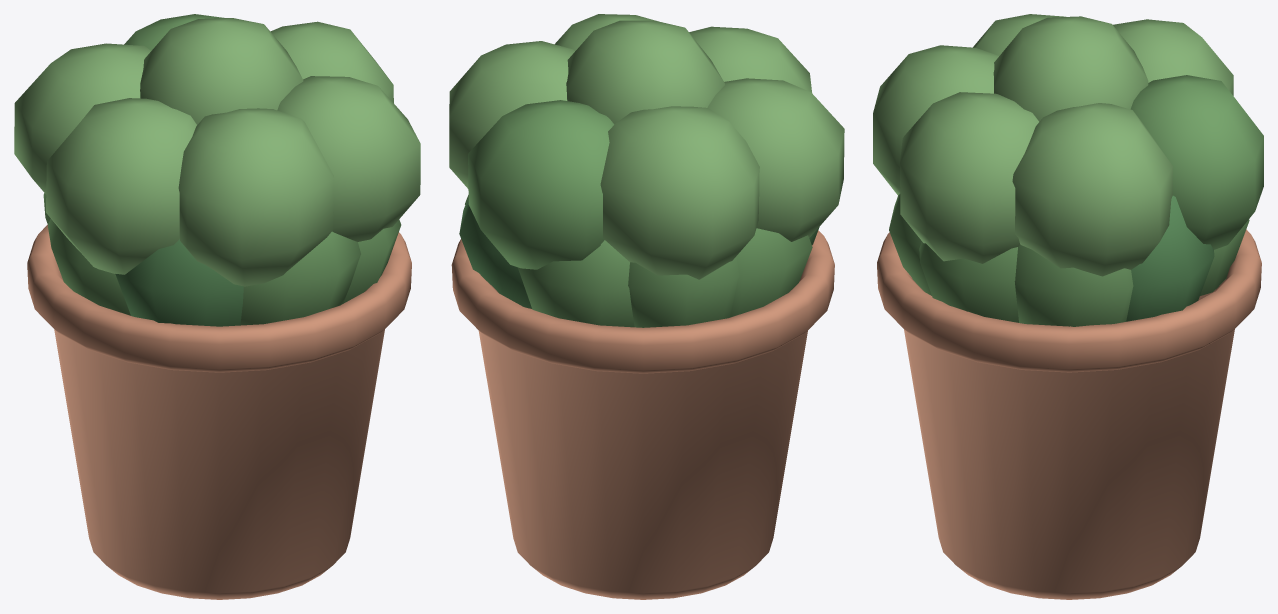
Rendered from potshrub.glb.
3 renders of one model, left to right at view 1: azimuth 30°, elevation 25°; view 2: azimuth 150°, elevation 25°; view 3: azimuth 270°, elevation 25°, orthographic.
Parts seen in each view (by area): view 1: Pot | terracotta, Foliage | scalloped leaf cluster.012, Foliage | scalloped leaf cluster.011, Foliage | scalloped leaf cluster.013, Foliage | scalloped leaf cluster.014, Foliage | scalloped leaf cluster.010, Foliage | scalloped leaf cluster.005, Foliage | scalloped leaf cluster.006, Foliage | scalloped leaf cluster.008, Foliage | scalloped leaf cluster.004, Foliage | scalloped leaf cluster.007, Foliage | scalloped leaf cluster.009; view 2: Pot | terracotta, Foliage | scalloped leaf cluster.010, Foliage | scalloped leaf cluster.009, Foliage | scalloped leaf cluster.011, Foliage | scalloped leaf cluster.014, Foliage | scalloped leaf cluster.008, Foliage | scalloped leaf cluster.002, Foliage | scalloped leaf cluster.003, Foliage | scalloped leaf cluster.012, Foliage | scalloped leaf cluster.004, Foliage | scalloped leaf cluster.001, Foliage | scalloped leaf cluster.013; view 3: Pot | terracotta, Foliage | scalloped leaf cluster.008, Foliage | scalloped leaf cluster.013, Foliage | scalloped leaf cluster.009, Foliage | scalloped leaf cluster.014, Foliage | scalloped leaf cluster.012, Foliage | scalloped leaf cluster, Foliage | scalloped leaf cluster.001, Foliage | scalloped leaf cluster.007, Foliage | scalloped leaf cluster.010, Foliage | scalloped leaf cluster.006, Foliage | scalloped leaf cluster.011 (+1 smaller).
Part boxes in pixels (bbox=[...]): Pot | terracotta: bbox=[27, 224, 411, 599]; Foliage | scalloped leaf cluster.012: bbox=[178, 108, 333, 286]; Foliage | scalloped leaf cluster.011: bbox=[46, 98, 196, 274]; Foliage | scalloped leaf cluster.013: bbox=[277, 76, 420, 241]; Foliage | scalloped leaf cluster.014: bbox=[140, 18, 303, 124]; Foliage | scalloped leaf cluster.010: bbox=[14, 43, 150, 194]; Foliage | scalloped leaf cluster.005: bbox=[115, 239, 243, 326]; Foliage | scalloped leaf cluster.006: bbox=[240, 231, 360, 325]; Foliage | scalloped leaf cluster.008: bbox=[270, 21, 393, 102]; Foliage | scalloped leaf cluster.004: bbox=[48, 218, 130, 315]; Foliage | scalloped leaf cluster.007: bbox=[343, 219, 401, 303]; Foliage | scalloped leaf cluster.009: bbox=[124, 14, 223, 50]; Pot | terracotta: bbox=[451, 230, 834, 599]; Foliage | scalloped leaf cluster.010: bbox=[600, 106, 759, 279]; Foliage | scalloped leaf cluster.009: bbox=[468, 100, 614, 269]; Foliage | scalloped leaf cluster.011: bbox=[707, 78, 844, 241]; Foliage | scalloped leaf cluster.014: bbox=[566, 20, 724, 124]; Foliage | scalloped leaf cluster.008: bbox=[449, 41, 574, 188]; Foliage | scalloped leaf cluster.002: bbox=[518, 240, 634, 327]; Foliage | scalloped leaf cluster.003: bbox=[628, 256, 739, 327]; Foliage | scalloped leaf cluster.012: bbox=[689, 26, 811, 92]; Foliage | scalloped leaf cluster.004: bbox=[730, 228, 812, 317]; Foliage | scalloped leaf cluster.001: bbox=[459, 197, 531, 308]; Foliage | scalloped leaf cluster.013: bbox=[555, 14, 656, 50]; Pot | terracotta: bbox=[877, 229, 1261, 599]; Foliage | scalloped leaf cluster.008: bbox=[1012, 103, 1172, 276]; Foliage | scalloped leaf cluster.013: bbox=[900, 92, 1038, 263]; Foliage | scalloped leaf cluster.009: bbox=[1130, 75, 1263, 249]; Foliage | scalloped leaf cluster.014: bbox=[993, 16, 1148, 121]; Foliage | scalloped leaf cluster.012: bbox=[873, 45, 998, 194]; Foliage | scalloped leaf cluster: bbox=[1014, 245, 1133, 326]; Foliage | scalloped leaf cluster.001: bbox=[1126, 195, 1214, 321]; Foliage | scalloped leaf cluster.007: bbox=[919, 241, 1018, 322]; Foliage | scalloped leaf cluster.010: bbox=[1113, 19, 1233, 95]; Foliage | scalloped leaf cluster.006: bbox=[889, 194, 931, 295]; Foliage | scalloped leaf cluster.011: bbox=[973, 14, 1065, 55].
Size of the model in its own units: 0.3459 by 0.5 by 0.3349.
